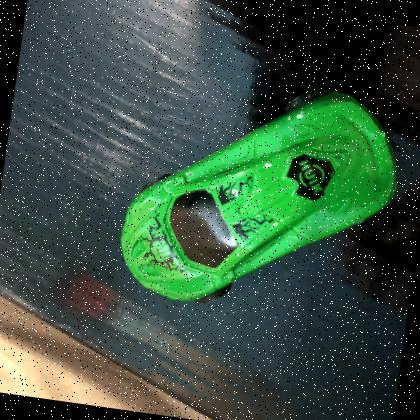Car: (111, 61, 411, 334)
